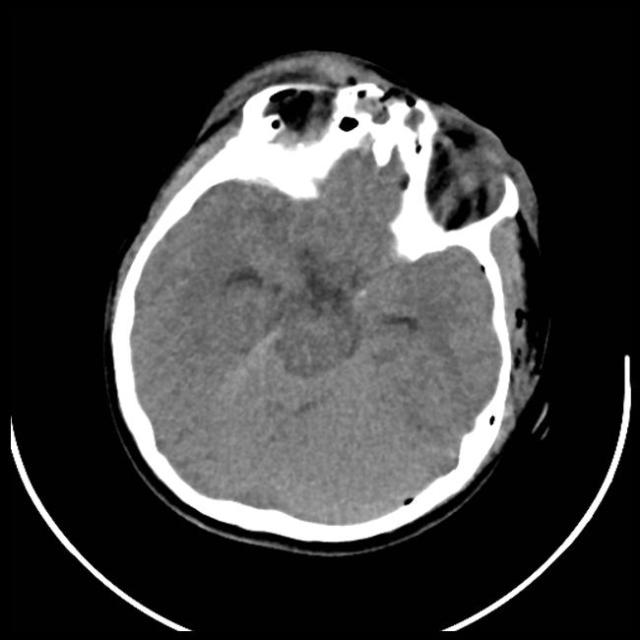lesion: (104, 51, 552, 542)
